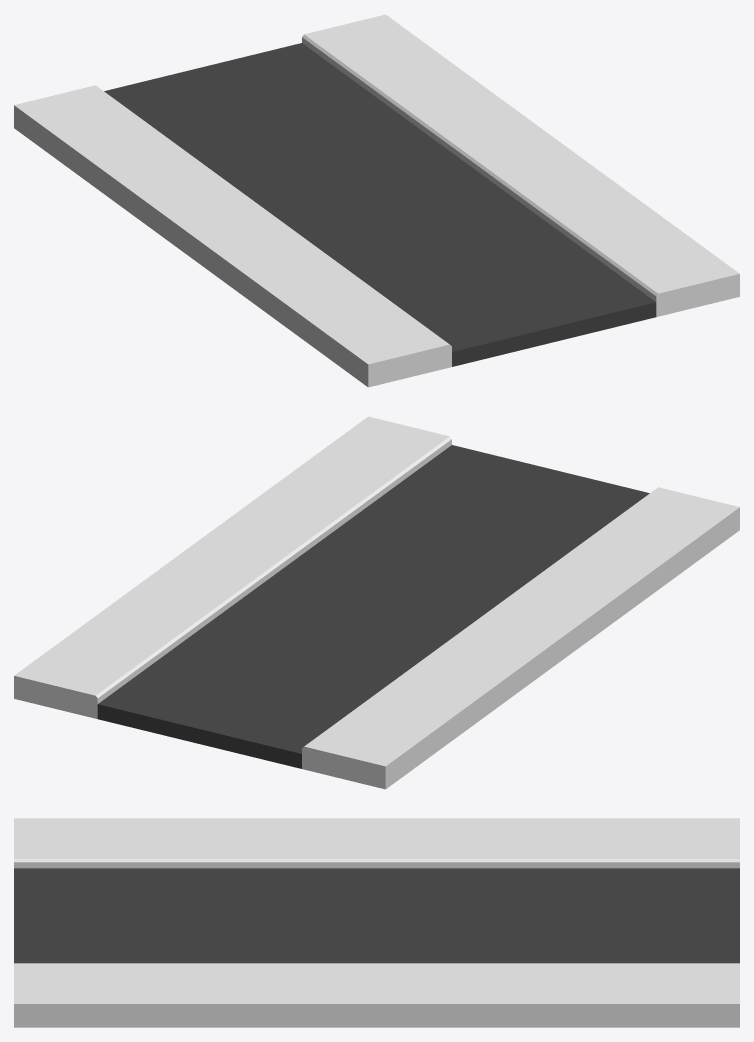
The model's file is Platform.fbx.
3 views of the same model, one above another, from view 1: azimuth 30°, elevation 25°; view 2: azimuth 150°, elevation 25°; view 3: azimuth 270°, elevation 25° (orthographic). The views are drawn at different scales.
Parts seen in each view (by area): view 1: PlatformBase; view 2: PlatformBase; view 3: PlatformBase.
Boxes of the visible parts, bbox=[...] form: PlatformBase: bbox=[14, 14, 739, 387]; PlatformBase: bbox=[14, 416, 739, 789]; PlatformBase: bbox=[14, 818, 739, 1027].
Size of the model in its own units: 7 by 0.4144 by 11.55.
